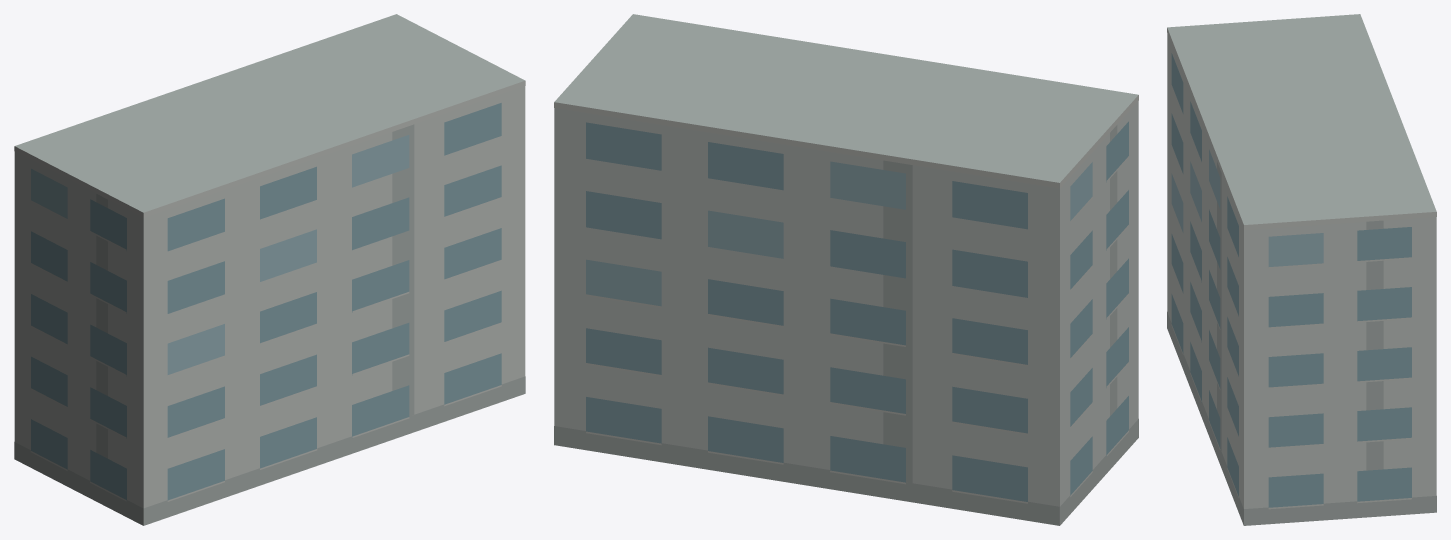
The model's file is survey-upis-32744289.glb.
The picture shows the model from 3 angles, left to right: view 1: azimuth 30°, elevation 25°; view 2: azimuth 150°, elevation 25°; view 3: azimuth 270°, elevation 25°; orthographic projection. The views are drawn at different scales.
Visible parts, largest first — view 1: survey-upis-32744289.tmp; view 2: survey-upis-32744289.tmp; view 3: survey-upis-32744289.tmp.
Boxes of the visible parts, left/top/right/bottom form: survey-upis-32744289.tmp: left=14, top=14, right=525, bottom=525; survey-upis-32744289.tmp: left=554, top=14, right=1138, bottom=525; survey-upis-32744289.tmp: left=1167, top=14, right=1436, bottom=525.
Size of the model in its own units: 21.83 by 14.5 by 11.79.
